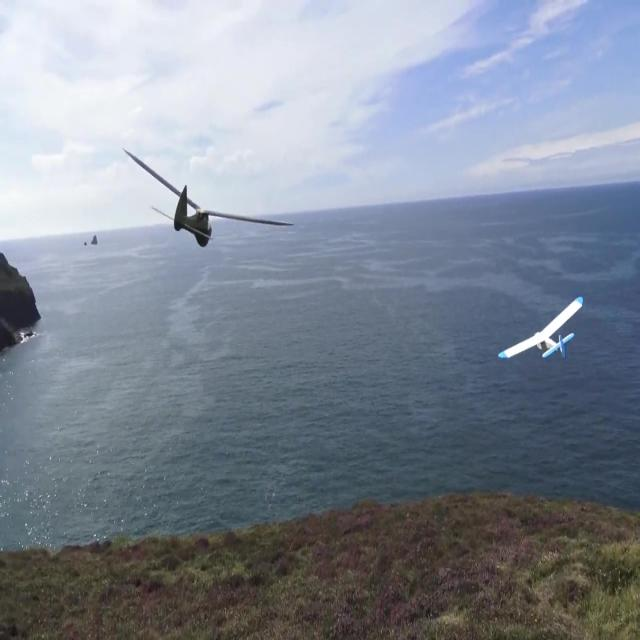iha: (121, 177, 295, 218), (528, 321, 553, 323)
